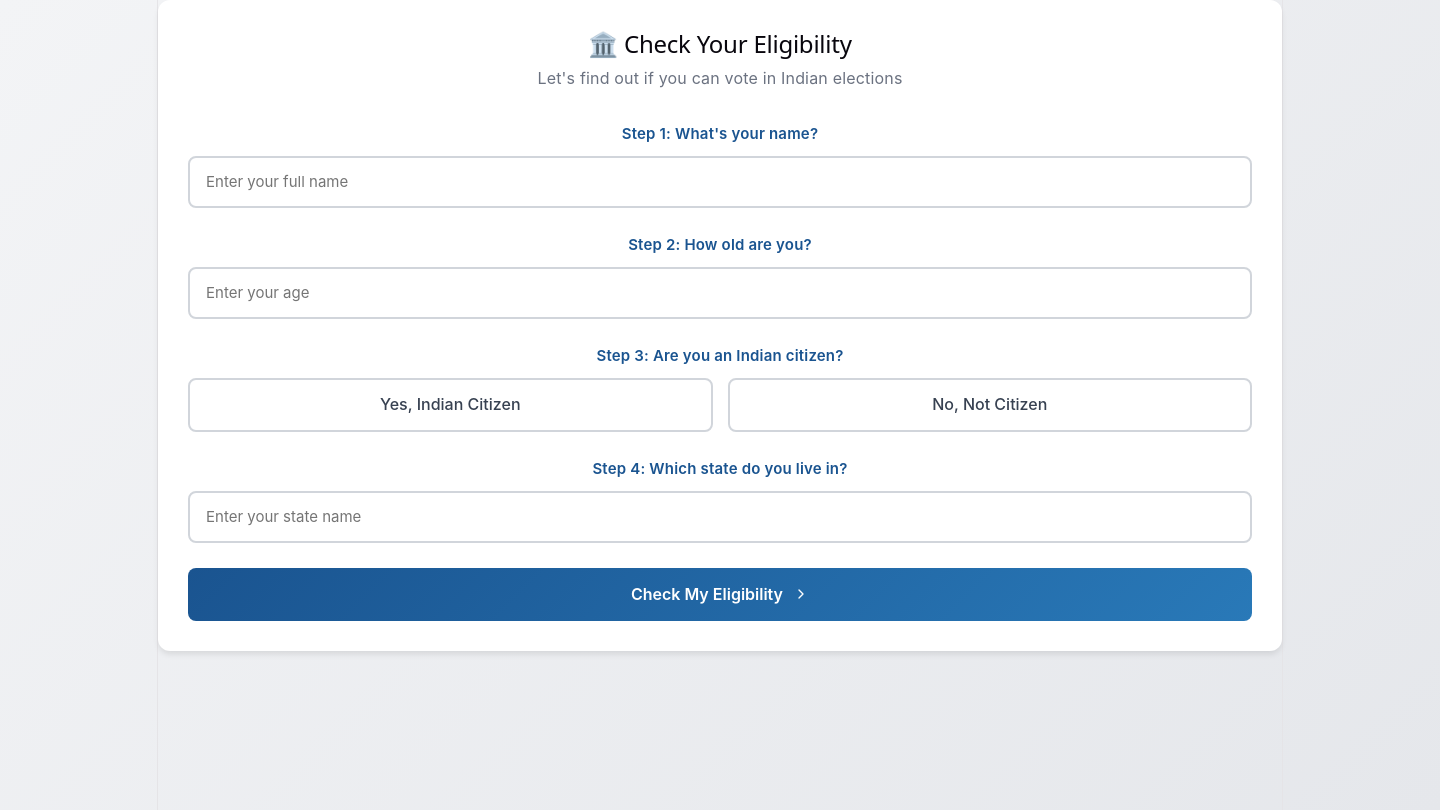
Test: EligibilityChecker › shows eligible result when user meets requirements
Type "Test User" into the field labelled "Step 1: What's your name?". click: coordinates (720, 182)
box: top-left (188, 156), bottom-right (1252, 208)
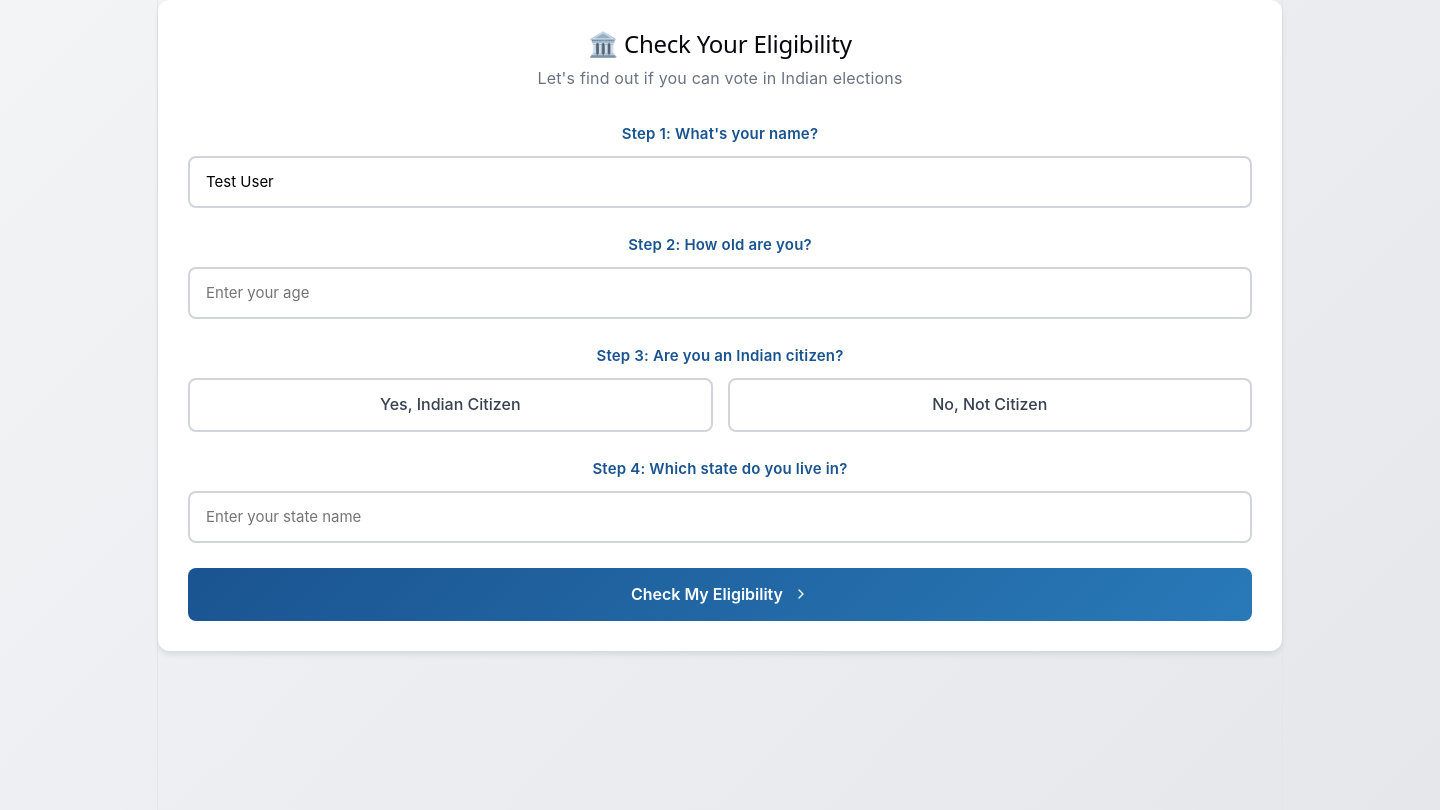
Type "21" into the number field labelled "Step 2: How old are you?". click: coordinates (720, 293)
box: top-left (188, 267), bottom-right (1252, 319)
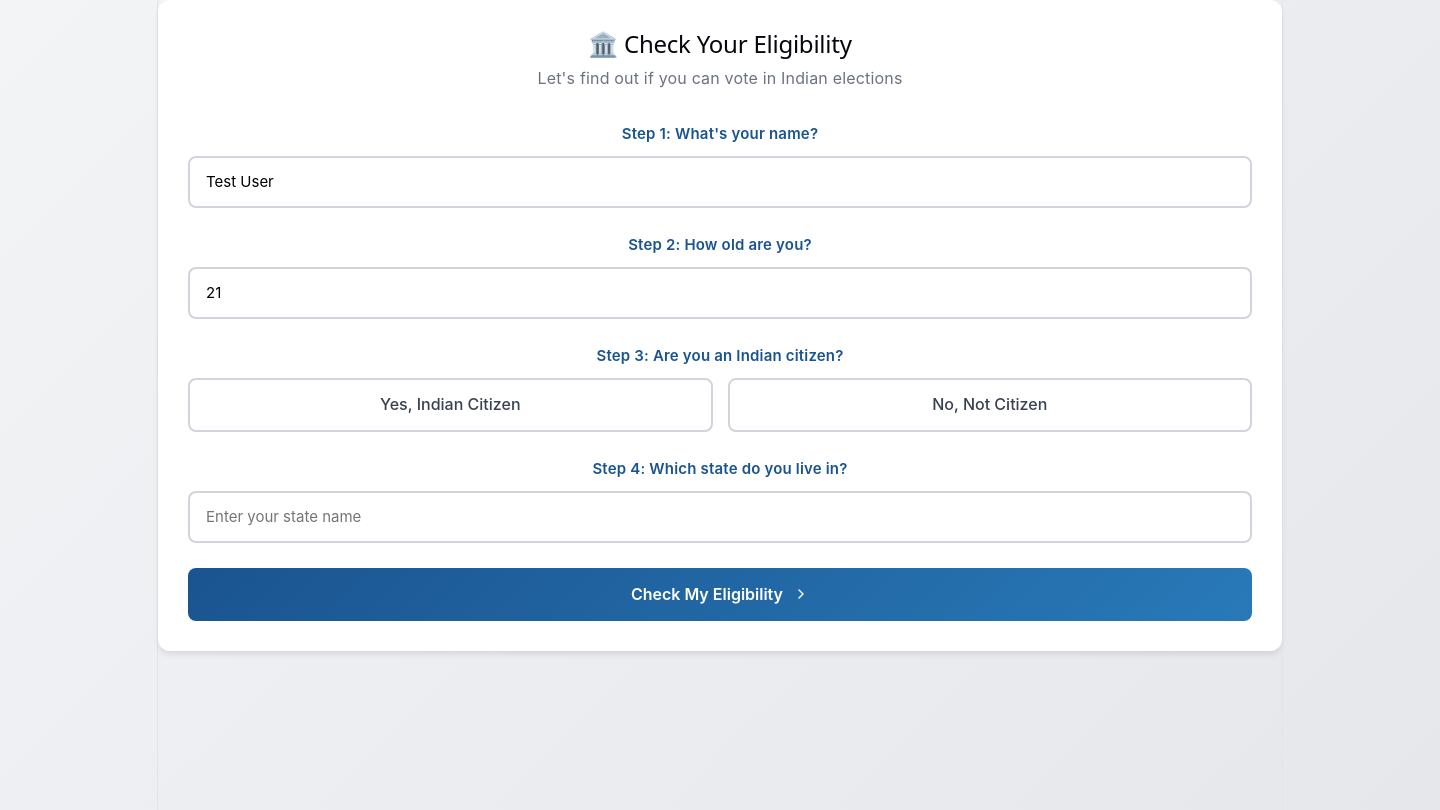
Click the button "Yes, Indian Citizen". click: coordinates (450, 405)
box: top-left (188, 378), bottom-right (712, 432)
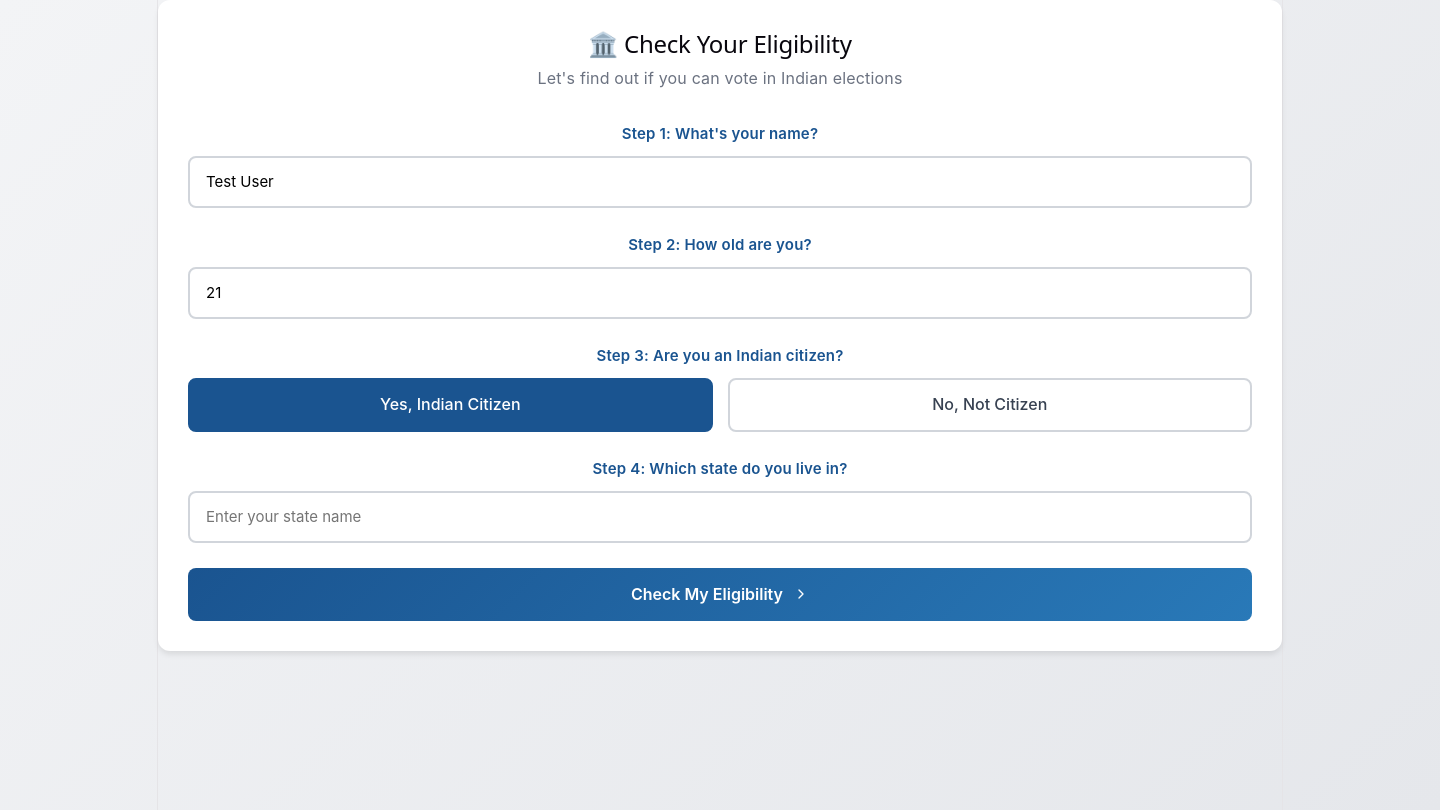
Type "Maharashtra" into the field labelled "Step 4: Which state do you live in?". click: coordinates (720, 516)
box: top-left (188, 490), bottom-right (1252, 542)
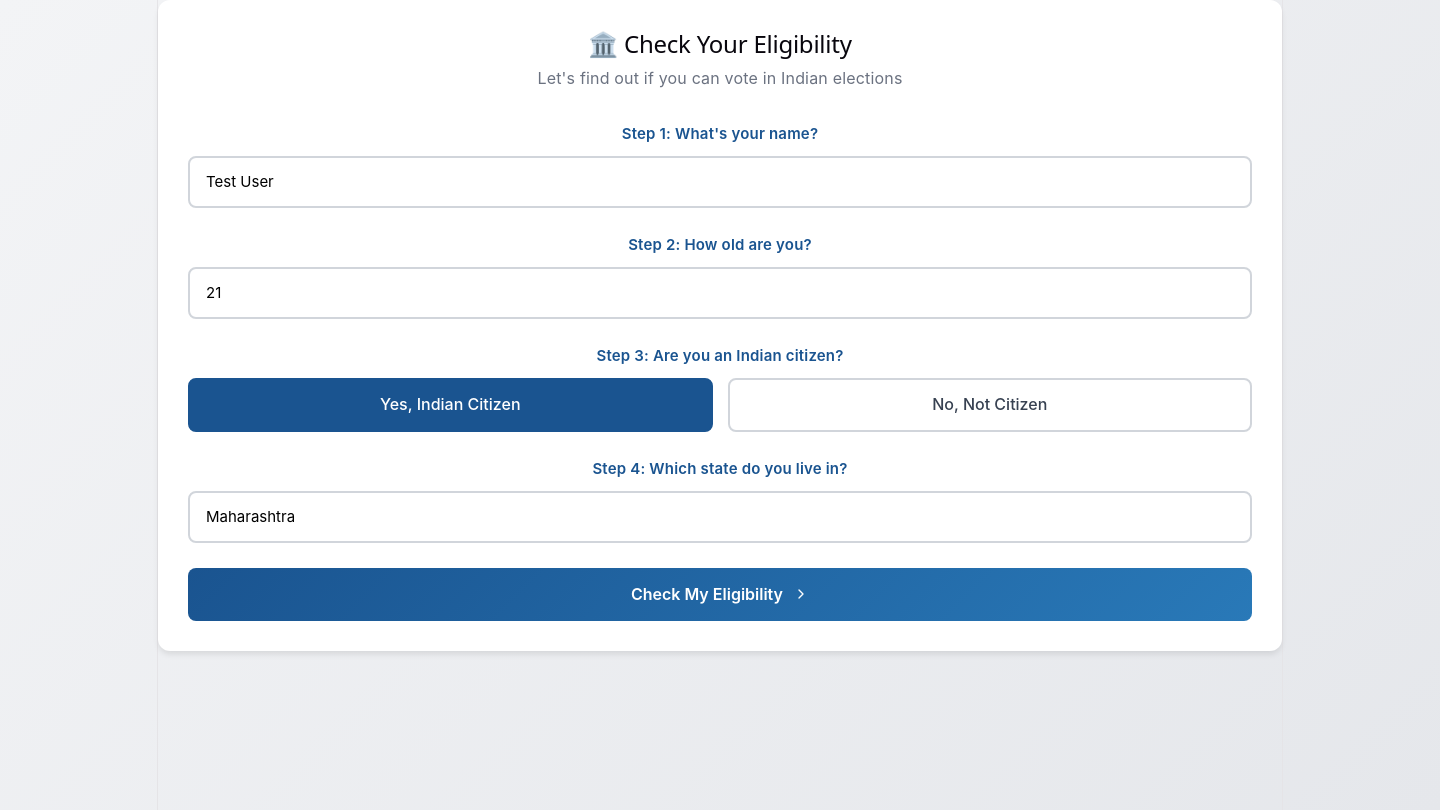
Click the button "Check My Eligibility". click: coordinates (720, 594)
box: top-left (188, 568), bottom-right (1252, 621)
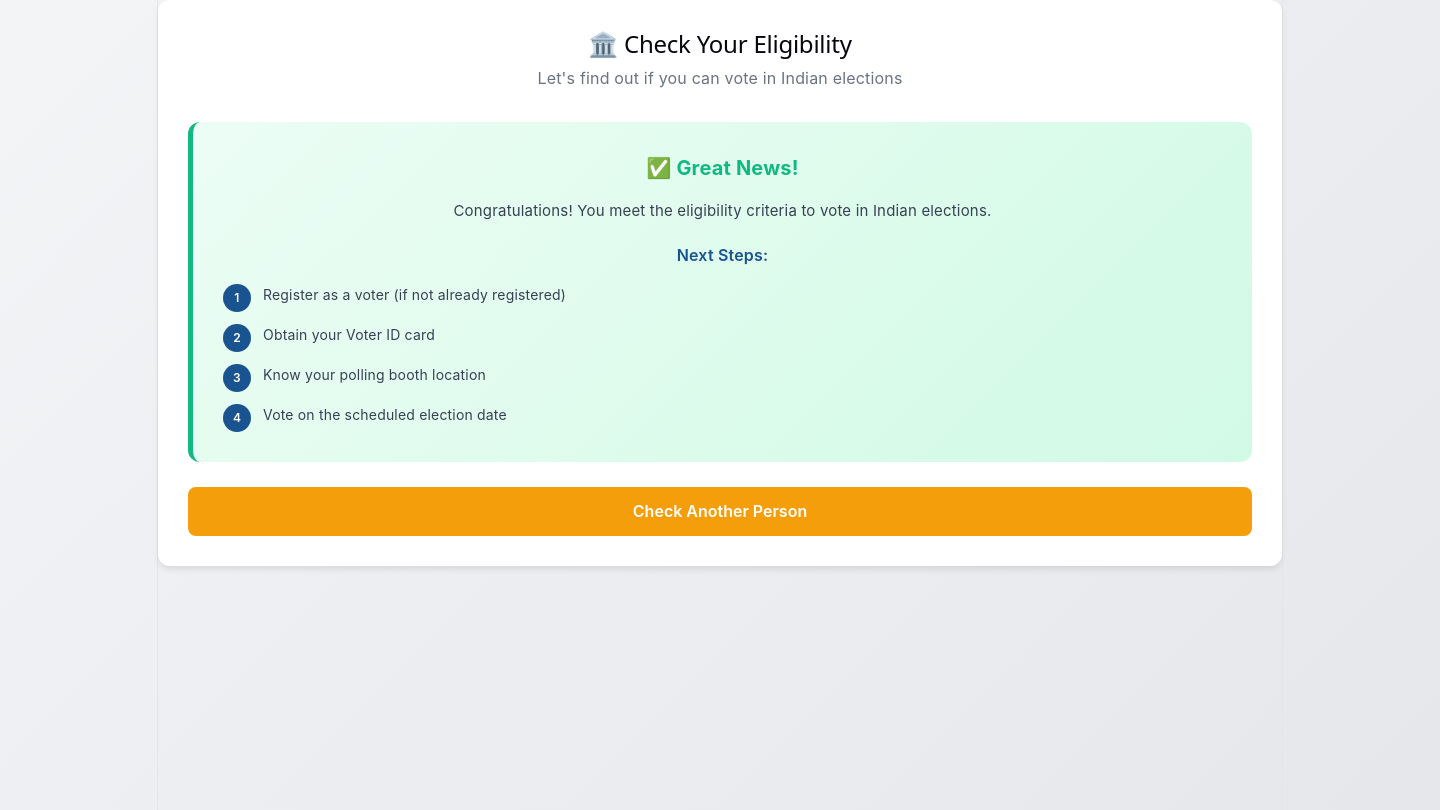
Check: the text "Congratulations" is shown, box top-left (454, 201), bottom-right (992, 220)
